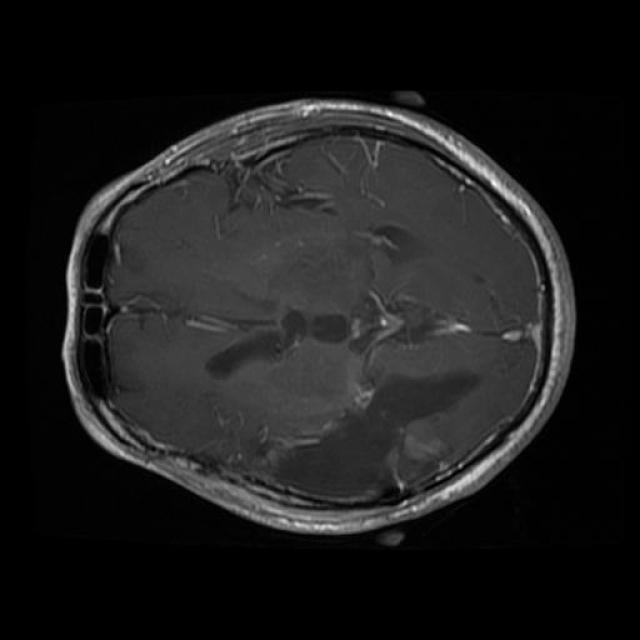Glioma: (278, 371, 481, 496)
